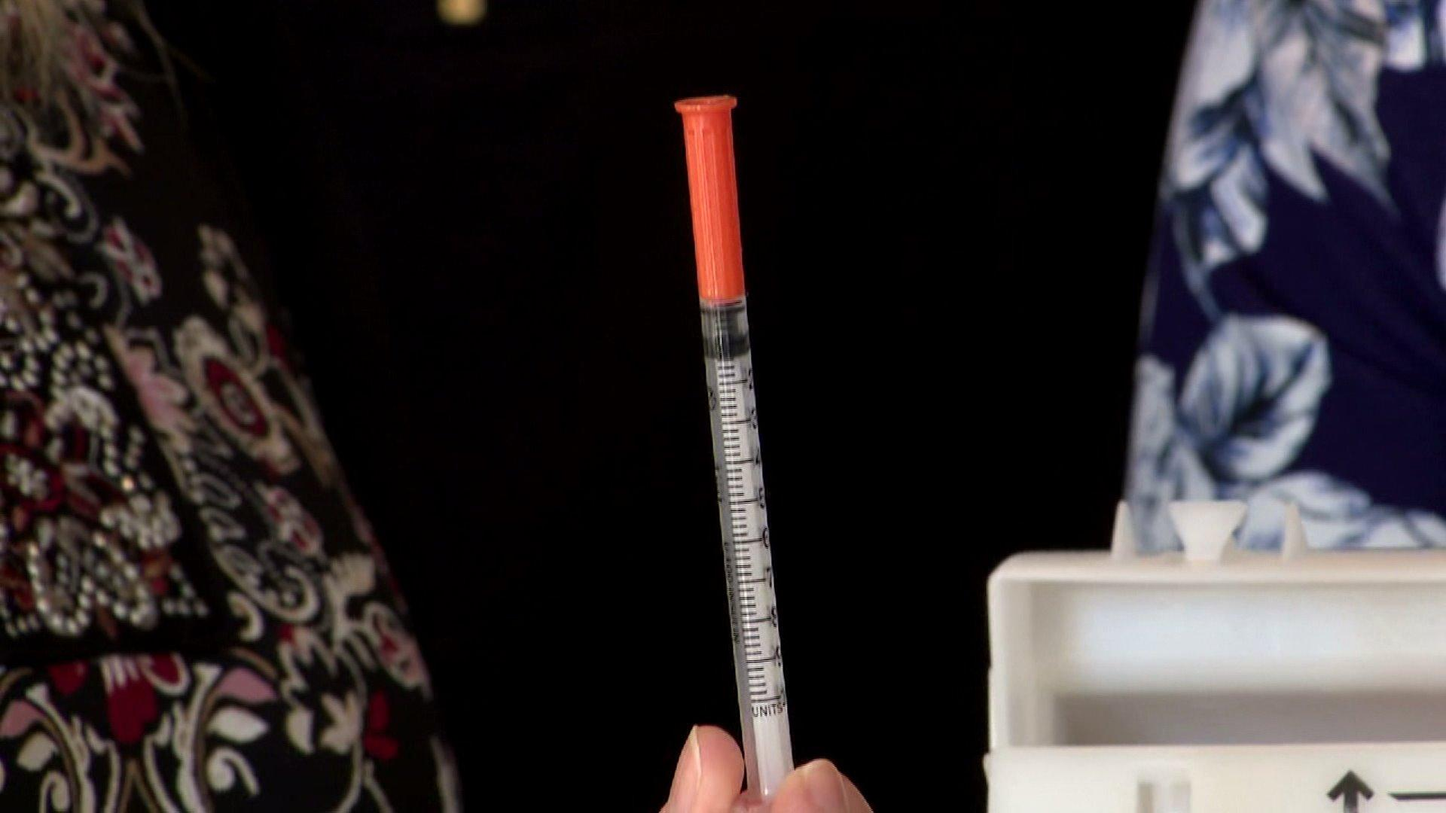Syringe: (676, 96, 792, 802)
